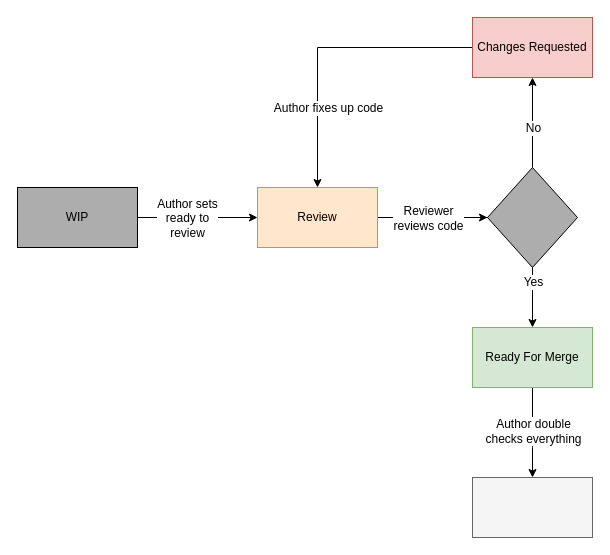
The diagram is 610 pixels wide and 555 high, and some of its shapes have lost their labels. Here are the shapes that lost their labels. From the top down, the centre of each, then its label:
At pixel 532 217: "Reviewer happy with code?".
At pixel 532 507: "Author merges code".
